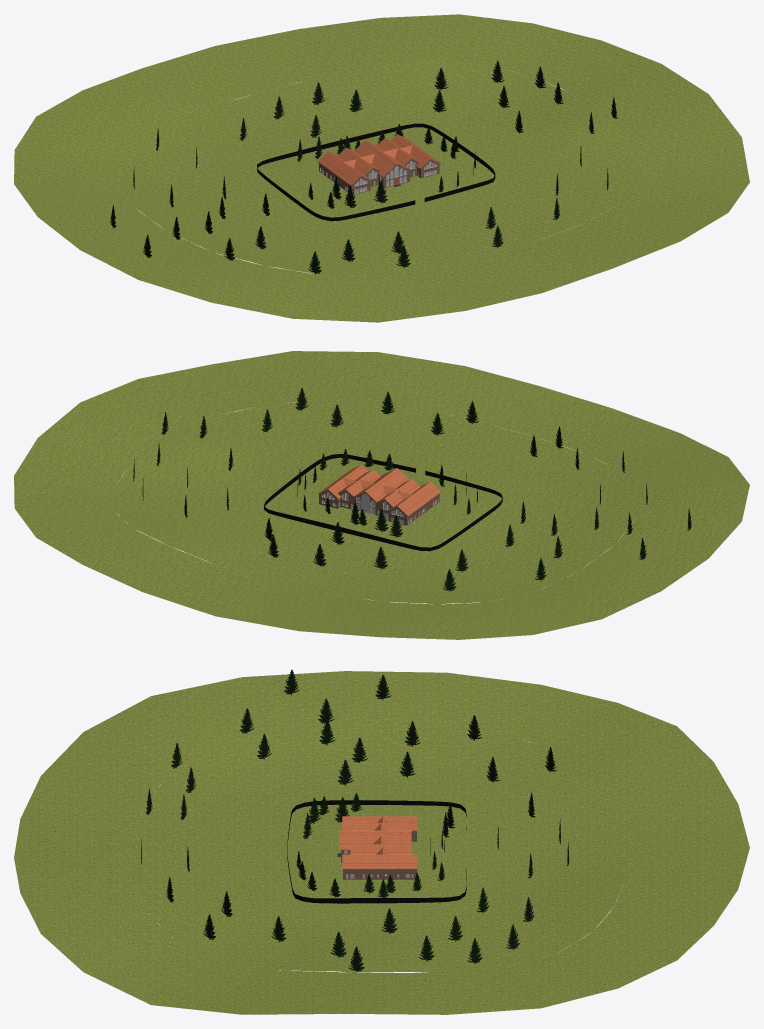
File: house.obj
3 views of the same model, one above another, from view 1: azimuth 30°, elevation 25°; view 2: azimuth 150°, elevation 25°; view 3: azimuth 270°, elevation 25° (orthographic). The views are drawn at different scales.
Visible parts, largest first — view 1: gras.001_Plane.070, gras_Plane.002, house.003_Plane.068, Plane.025_Plane.040, zaun_Plane.006, house_Plane.015, fenster_Plane.004; view 2: gras.001_Plane.070, gras_Plane.002, house.003_Plane.068, Plane.025_Plane.040, zaun_Plane.006, house_Plane.015, fenster_Plane.004; view 3: gras.001_Plane.070, gras_Plane.002, house.003_Plane.068, Plane.025_Plane.040, zaun_Plane.006, house_Plane.015.
Boxes of the visible parts, bbox=[...] form: gras.001_Plane.070: bbox=[14, 14, 749, 322]; gras_Plane.002: bbox=[113, 59, 637, 274]; house.003_Plane.068: bbox=[317, 134, 440, 185]; Plane.025_Plane.040: bbox=[110, 61, 617, 265]; zaun_Plane.006: bbox=[257, 123, 495, 221]; house_Plane.015: bbox=[319, 159, 439, 194]; fenster_Plane.004: bbox=[321, 161, 436, 192]; gras.001_Plane.070: bbox=[14, 351, 749, 639]; gras_Plane.002: bbox=[113, 399, 637, 604]; house.003_Plane.068: bbox=[318, 465, 440, 516]; Plane.025_Plane.040: bbox=[133, 388, 691, 579]; zaun_Plane.006: bbox=[264, 454, 502, 551]; house_Plane.015: bbox=[319, 490, 439, 525]; fenster_Plane.004: bbox=[322, 492, 435, 523]; gras.001_Plane.070: bbox=[14, 671, 749, 1014]; gras_Plane.002: bbox=[131, 726, 628, 972]; house.003_Plane.068: bbox=[339, 816, 417, 869]; Plane.025_Plane.040: bbox=[141, 670, 556, 958]; zaun_Plane.006: bbox=[287, 800, 466, 903]; house_Plane.015: bbox=[337, 831, 416, 879].
Size of the model in its own units: 399 by 45.09 by 359.
